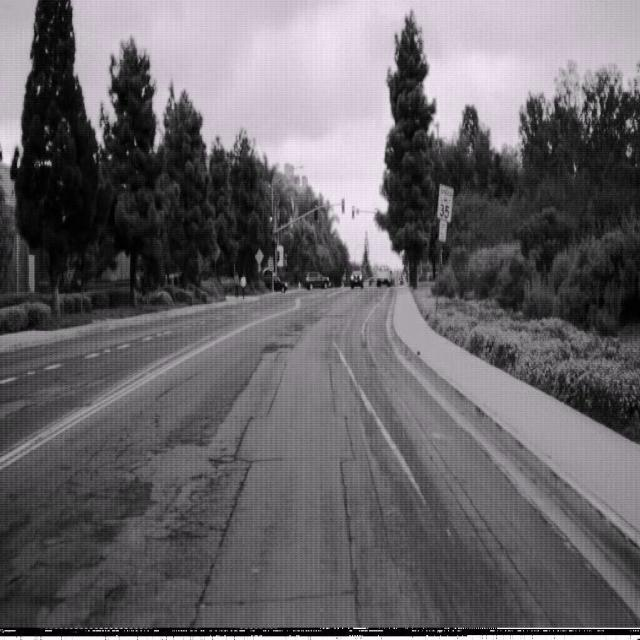speedLimit35: (436, 182, 454, 223)
